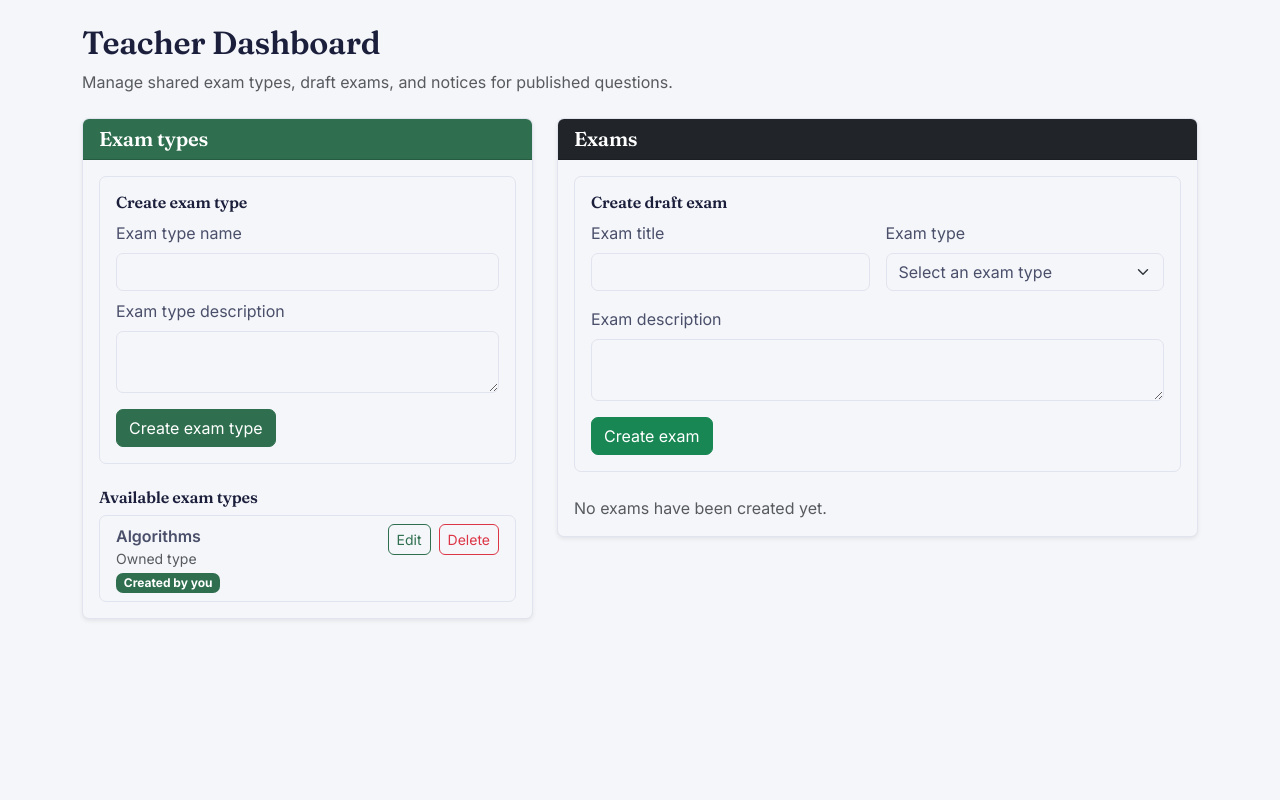
Test: exam-type management › cancels and confirms deletion through an accessible confirmation
Expected: the heading "Exam types" is shown, [99,126,208,151]
Click the button "Delete". click: (469, 539)
box: [439,524,499,555]
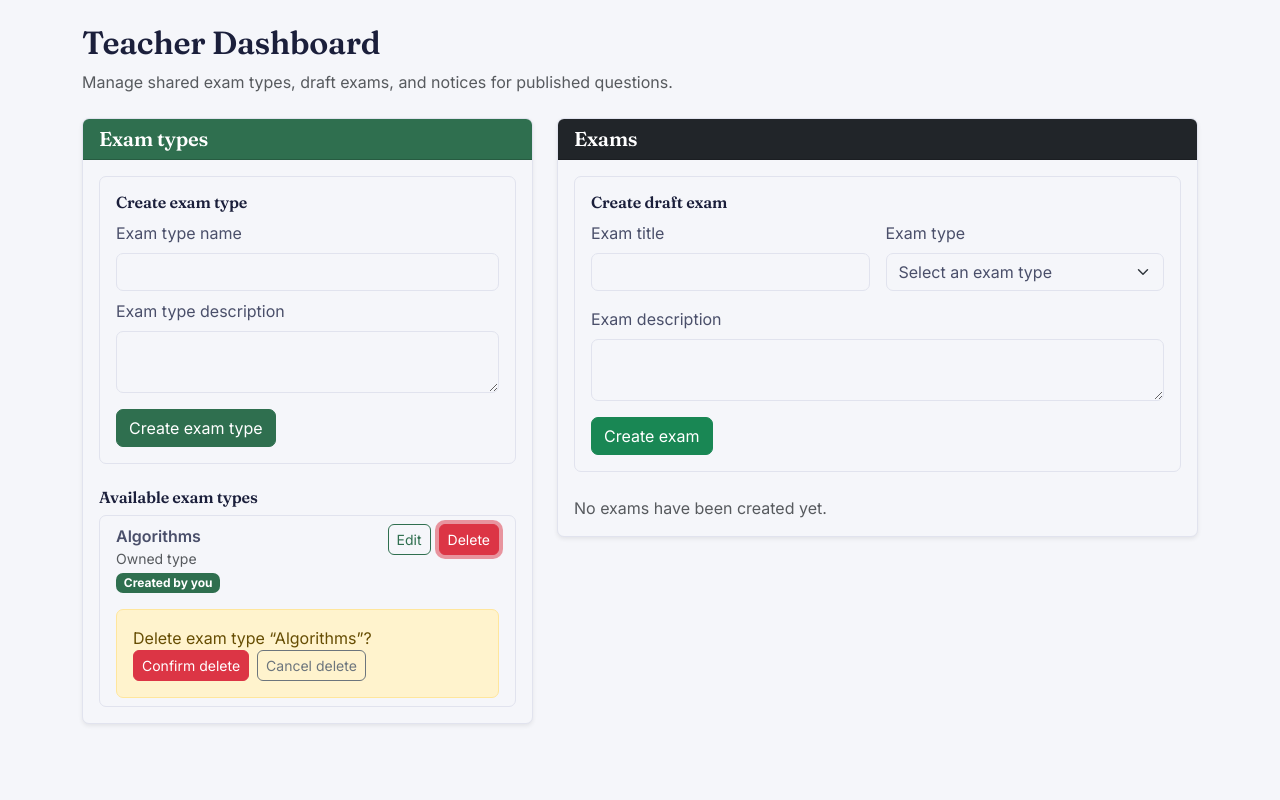
Result: the message shows "Algorithms" at [275,628,356,648]
Click the button "Cancel delete". click: (312, 666)
box: [257,650,366,681]
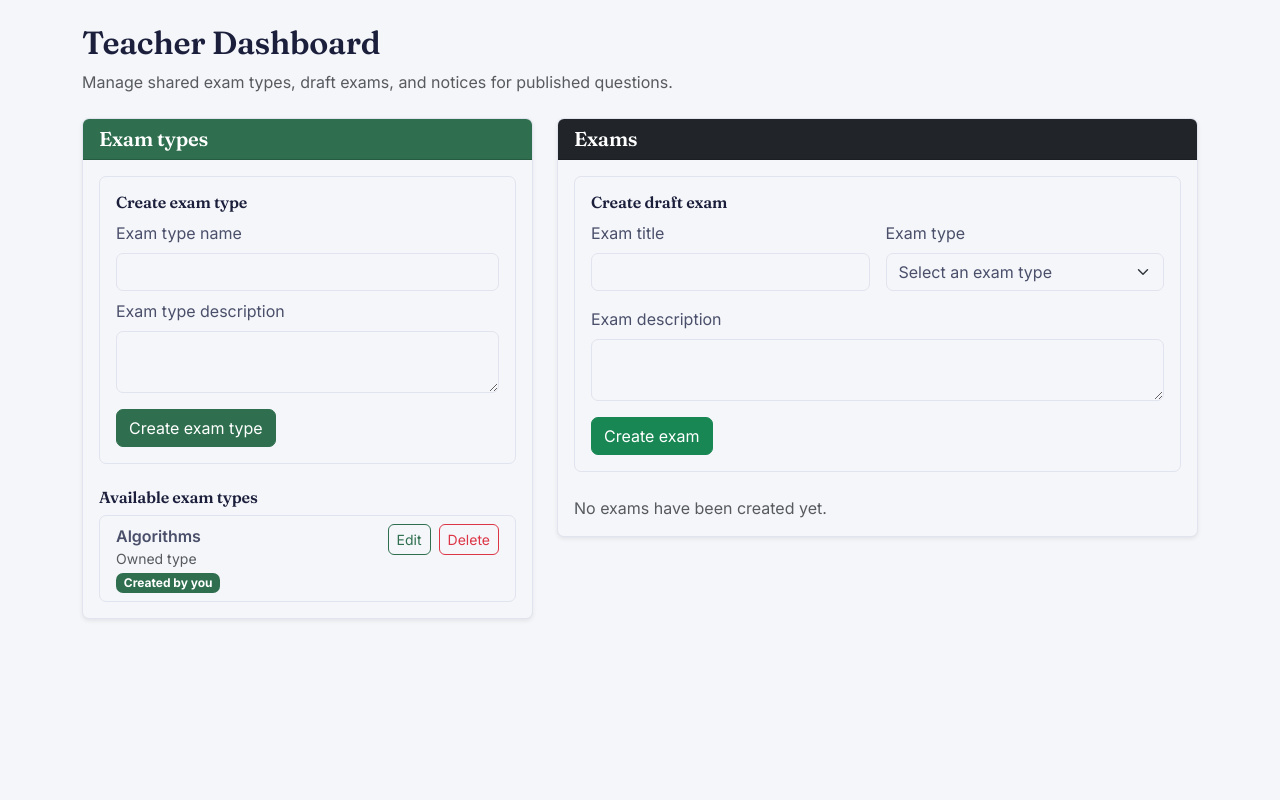
Expected: the text "Algorithms" is shown, [116,526,201,546]
Click the button "Delete". click: (469, 539)
box: [439,524,499,555]
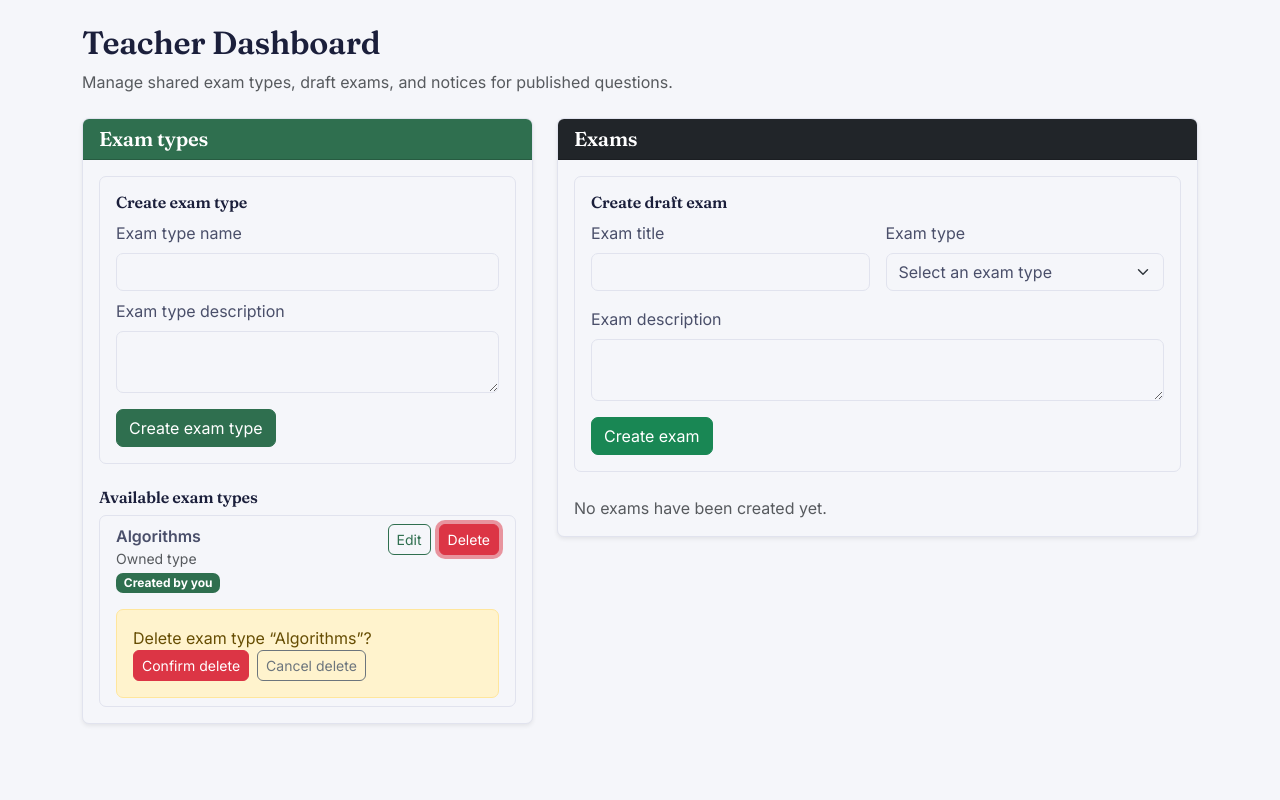
Click the button "Confirm delete". click: (191, 666)
box: [133,650,249,681]
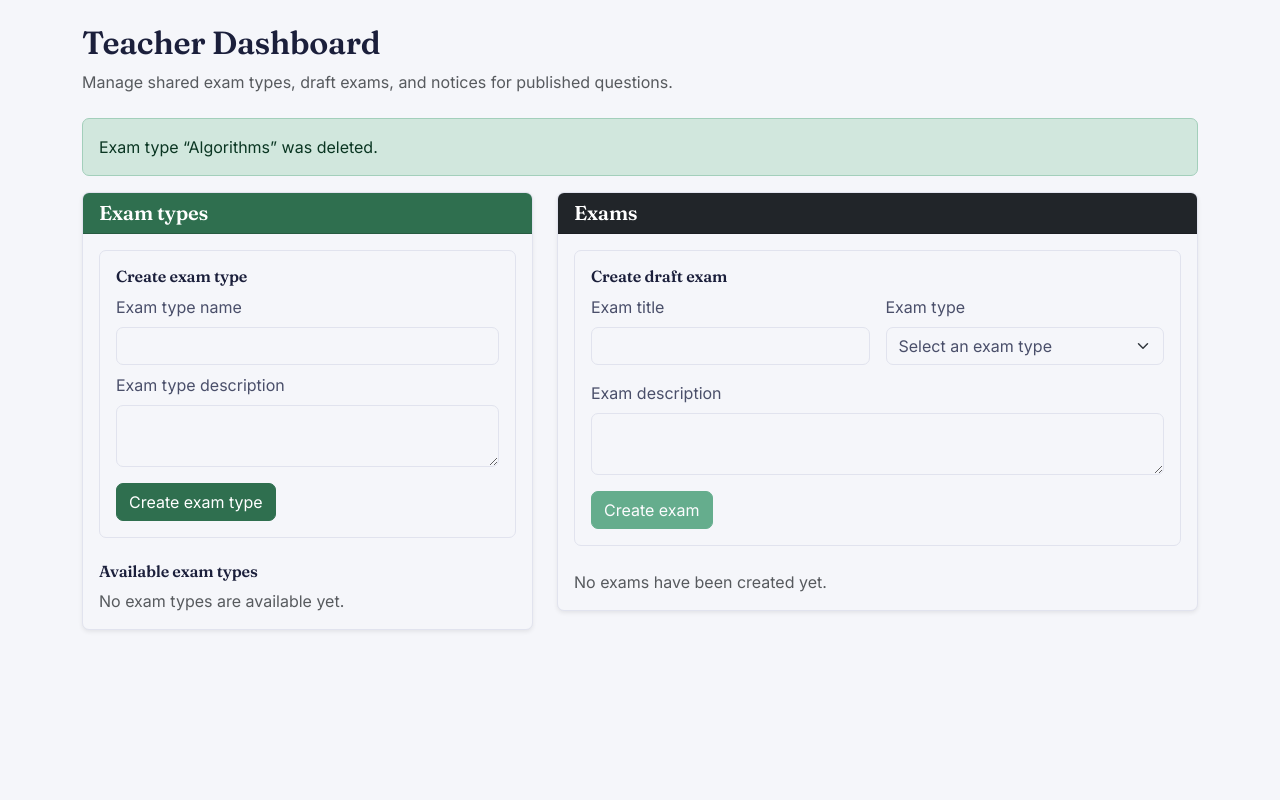
Result: the message reads "Exam type “Algorithms” was deleted." at [99,137,378,157]
